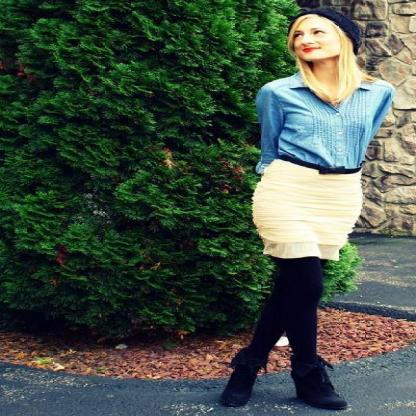hat: (287, 0, 373, 41)
shirt: (244, 75, 394, 173)
shoe: (216, 350, 346, 410)
skirt: (252, 160, 370, 260)
